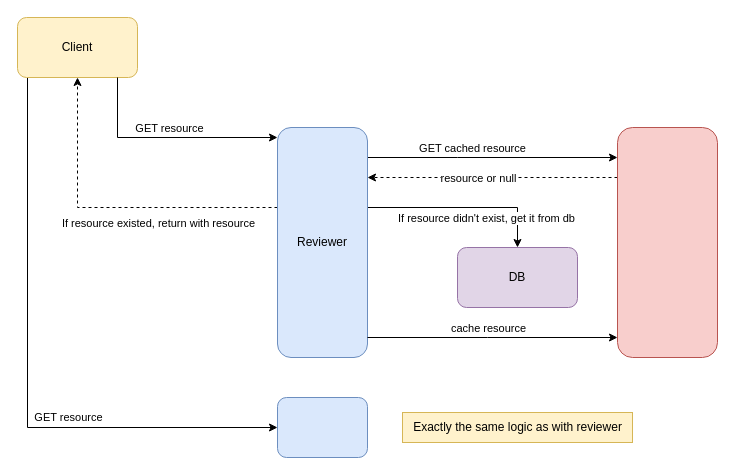
This 735x475 diagram has some shape labels left out. The shapes that lost their labels are listed below. From the top down, each one's centre as x and y in pixels, then its label:
At point 667,242: "Redis".
At point 322,427: "Planner".
